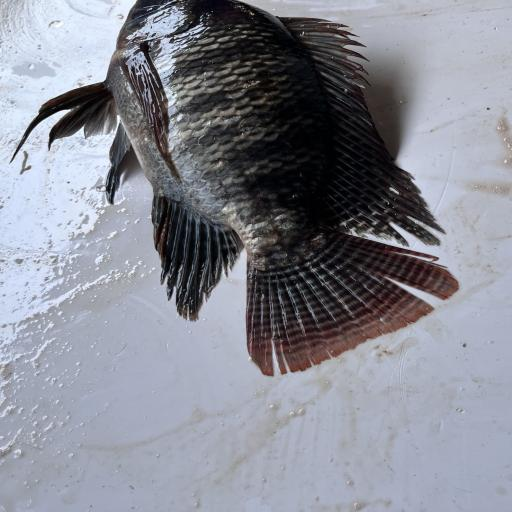Tilapia: (10, 0, 460, 377)
